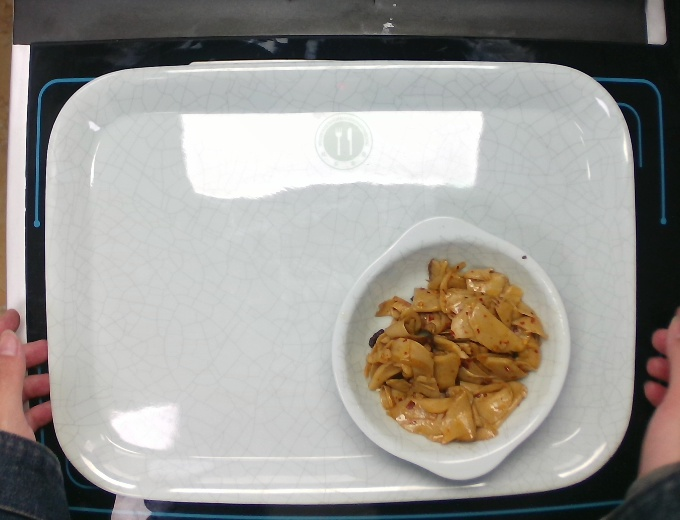JYsf-Shuang_Er_Wan: (329, 209, 572, 486)
